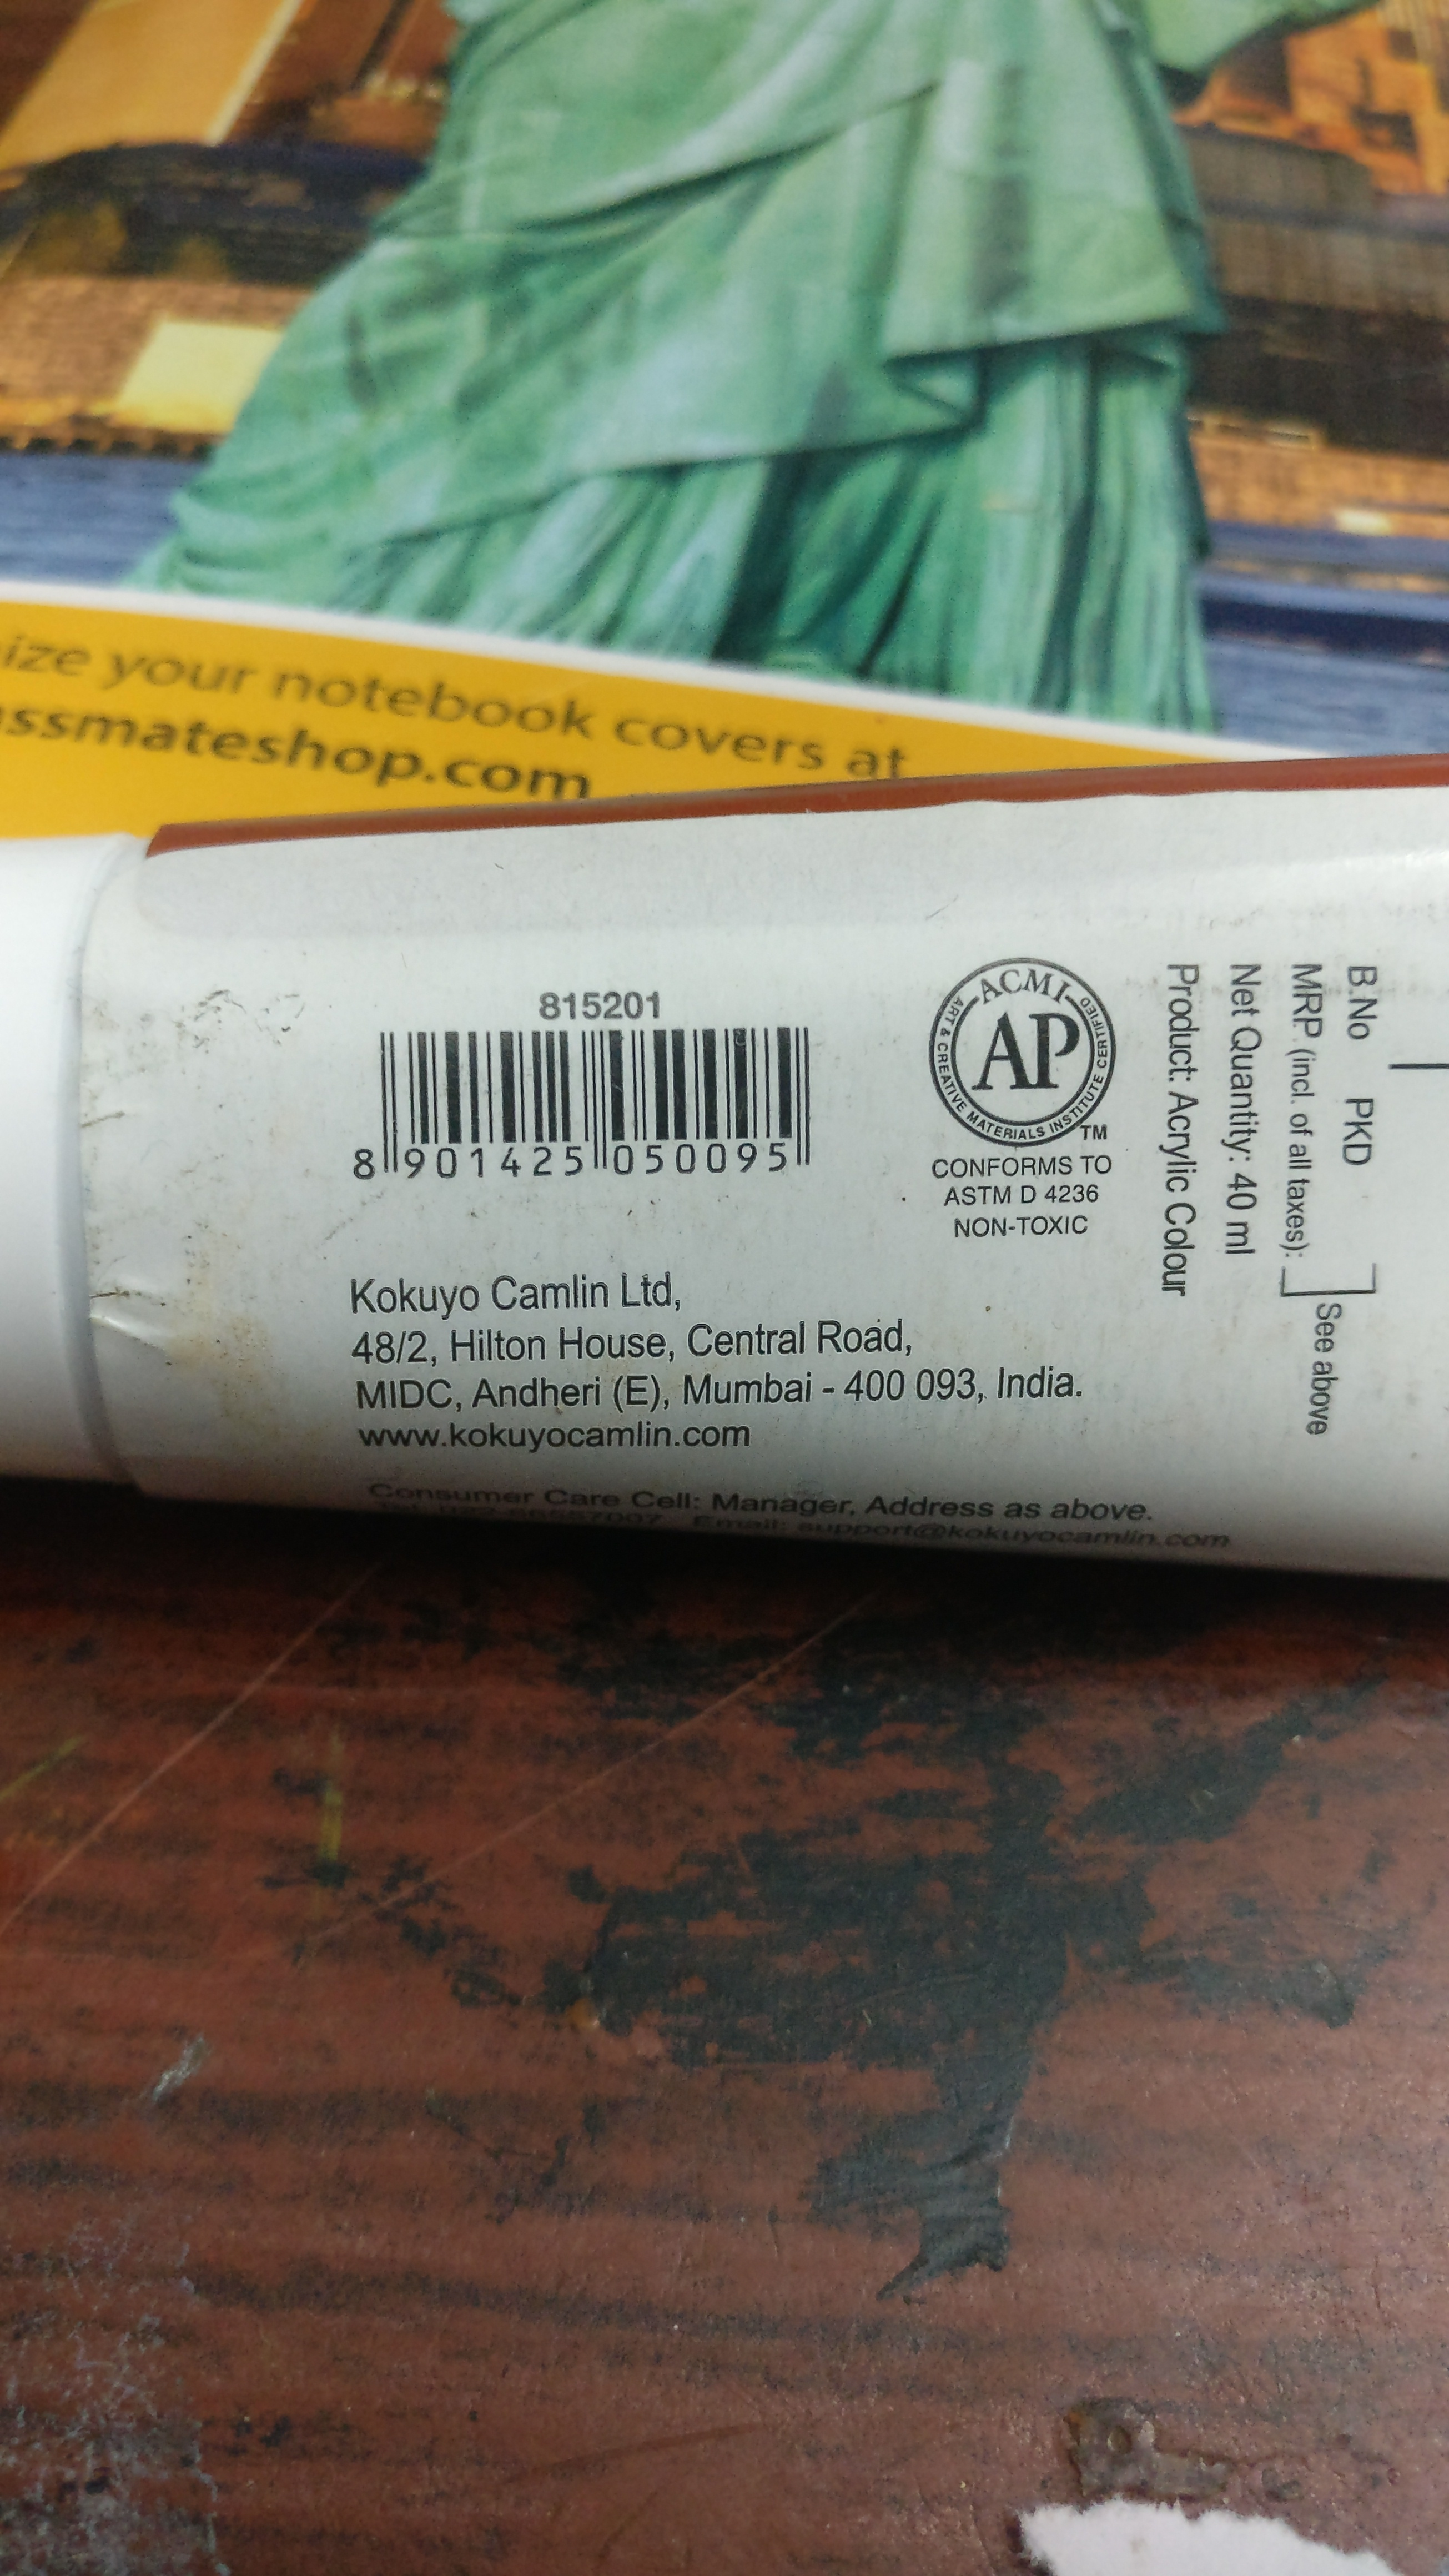barcode: (326, 982, 853, 1200)
